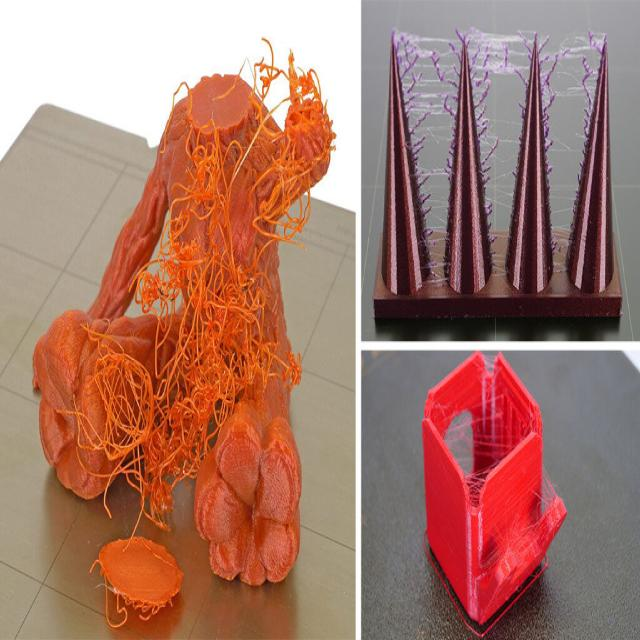Spaghetti: (113, 191, 249, 495), (241, 55, 329, 228)
Stringing: (395, 36, 611, 275), (434, 369, 524, 499), (536, 463, 562, 536)
